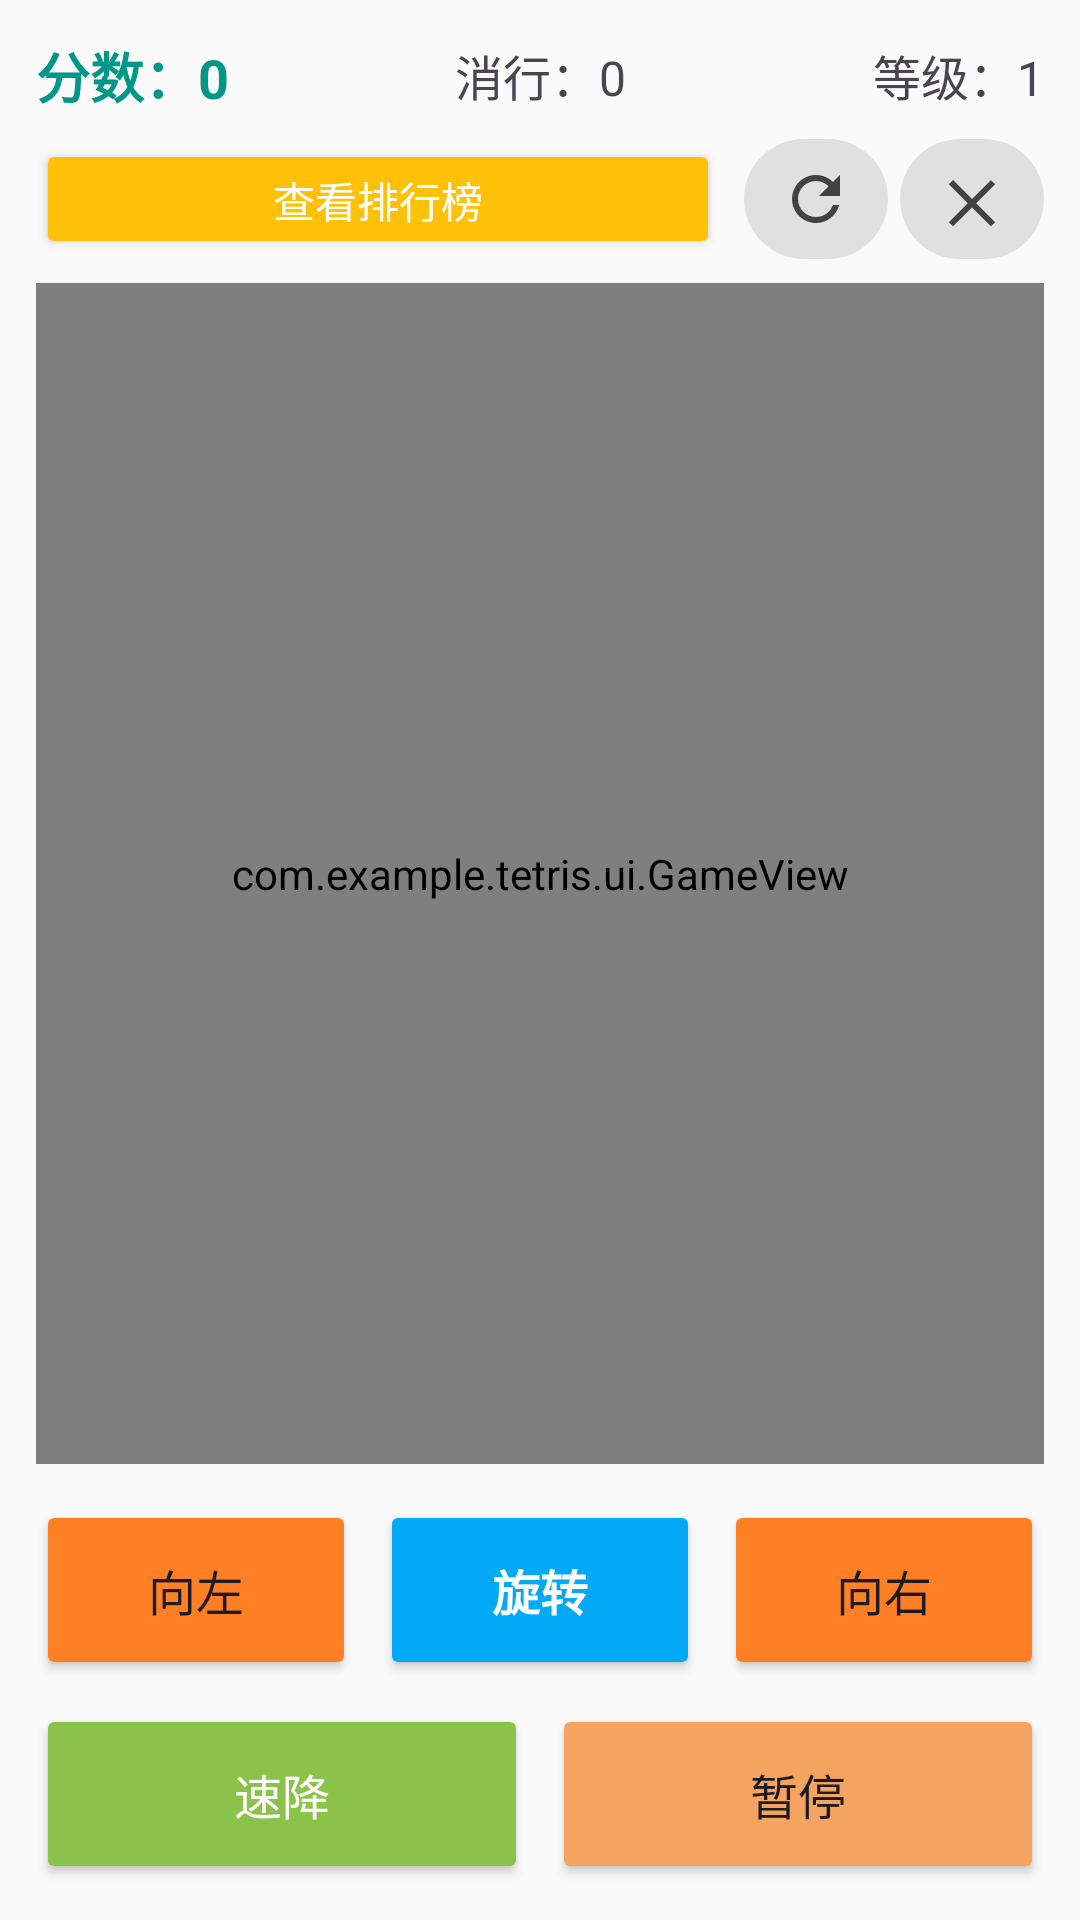

Screen size 1080x1920. Icon name, then its box in pixels as [x1,y1,x2,y2]:
退出: [900,139,1044,259]
重新开始: [744,139,888,259]
